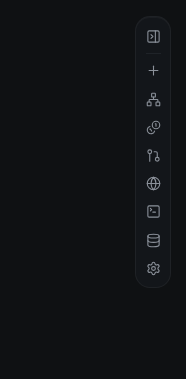
Test case: RightPane collapse placement › keeps Add panel items clickable after an inside mousedown
This screenshot has width=186, height=379.
Click the button named "Add panel": x=153, y=71 [140,58,166,84]
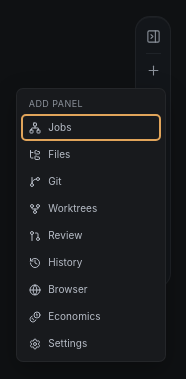
Press the mouse on the menu item "Jobs": x=91, y=128 [21,114,161,141]
expect the menu "Add panel" is shown: met, box [16,88,166,362]
Click the menu item "Jobs": x=91, y=128 [21,114,161,141]
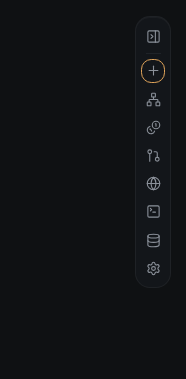
expect the text "Add panel" is gone: met
